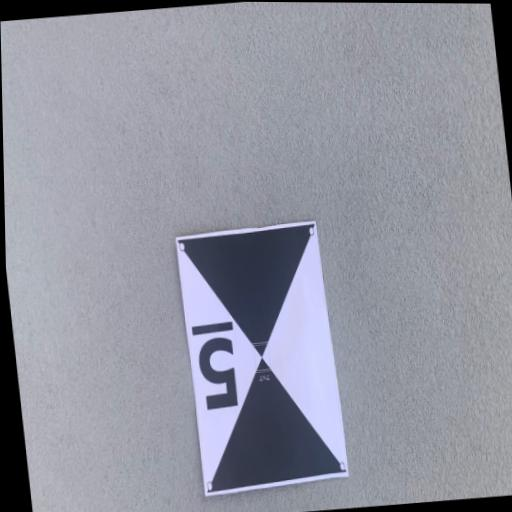target5: (176, 221, 349, 496)
